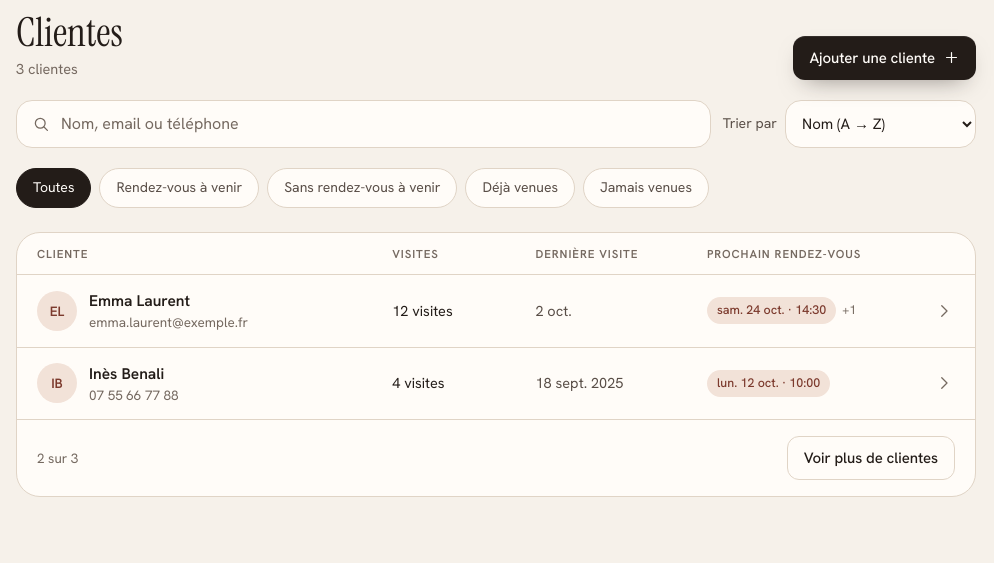
Test: pagination › adds the next page, without duplicates, and moves the keyboard to the first new customer
The width and height of the screenshot is (994, 563).
expect the text "2 sur 3" is shown: met, box [37,448,78,468]
Click the button "Voir plus de clientes" at [871, 458], box [787,436,955,480]
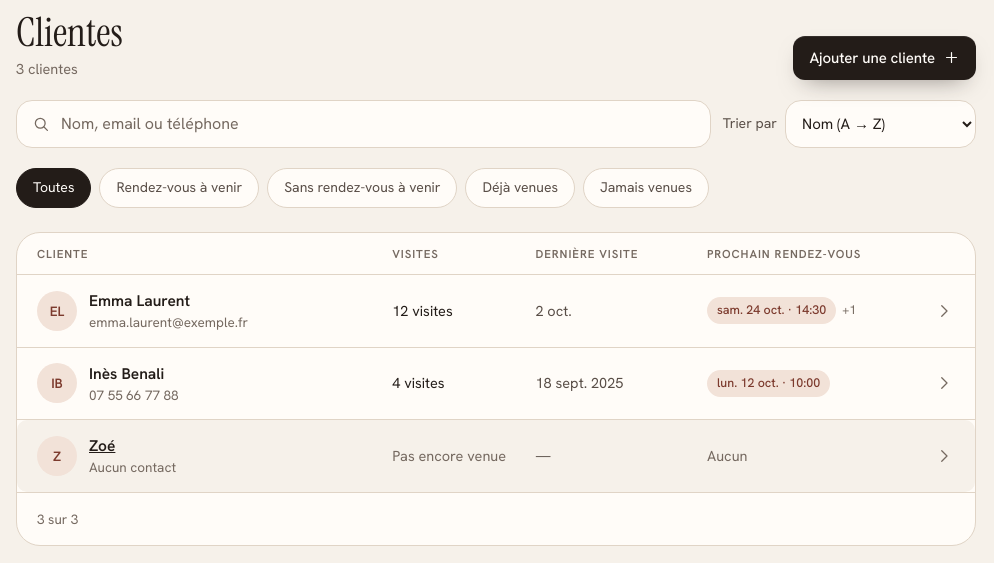
expect the text "3 sur 3" is shown: met, box [37,508,78,529]
expect the button "Voir plus de clientes" is gone: met
